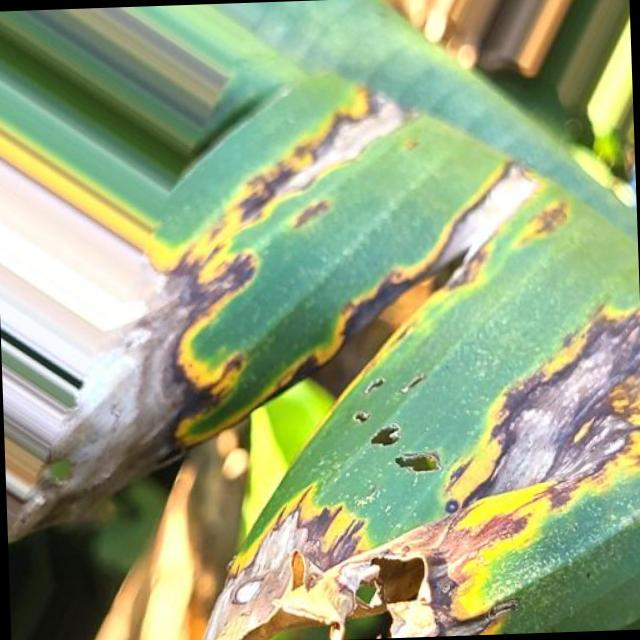Banana_Black_Sigatoka: (49, 233, 314, 542), (311, 66, 585, 337), (455, 318, 640, 580), (210, 486, 487, 640)
